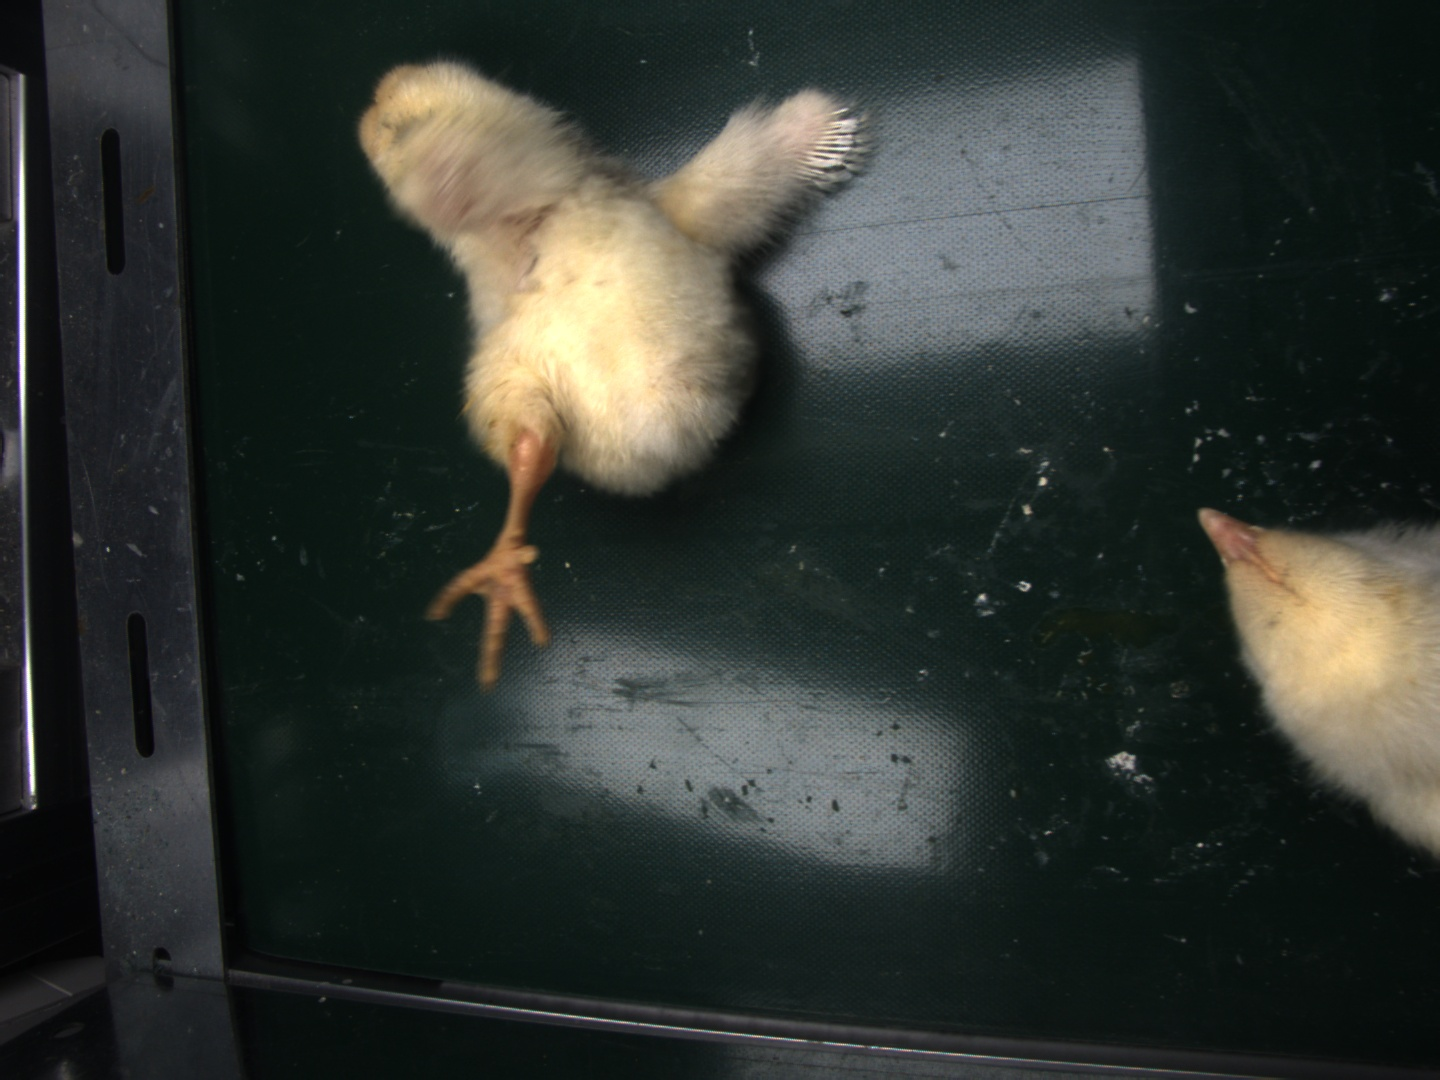male: (795, 108, 859, 177)
